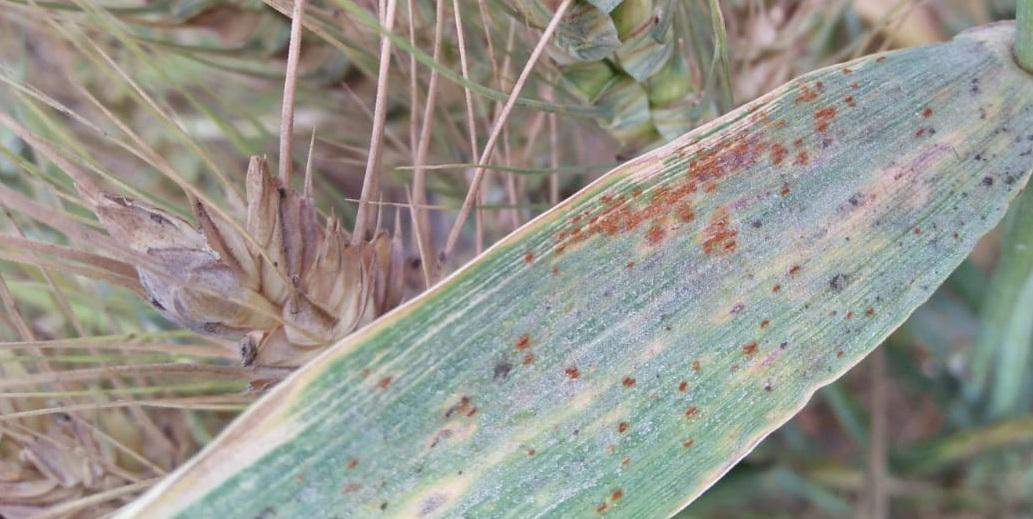Sugarcane: (447, 62, 868, 317)
